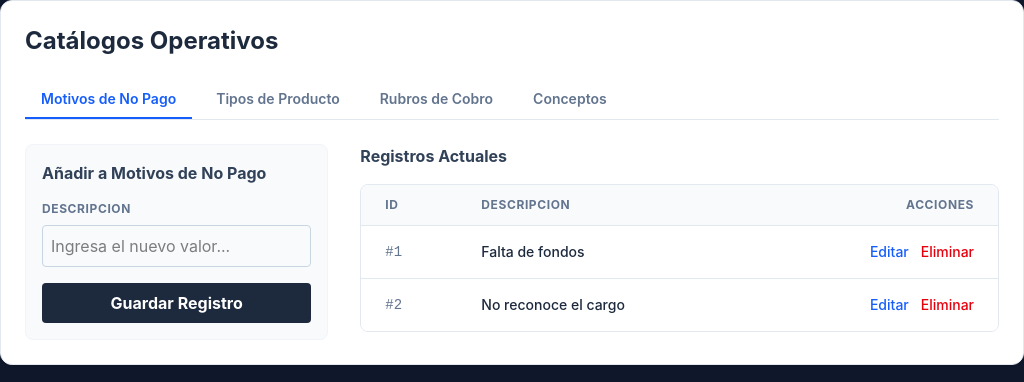
CatalogosManager: lectura › cambia de catalogo y recarga usando el endpoint correcto
Check: the text "Falta de fondos" is shown, box left=457, top=226, right=759, bottom=278
Click the button "Tipos de Producto": [278, 100] box left=200, top=81, right=356, bottom=119
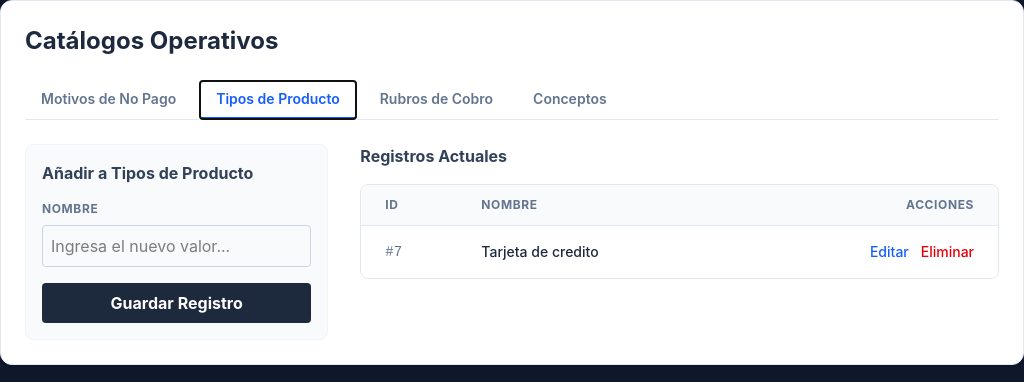
Check: the text "Tarjeta de credito" is shown, box left=457, top=226, right=739, bottom=278
